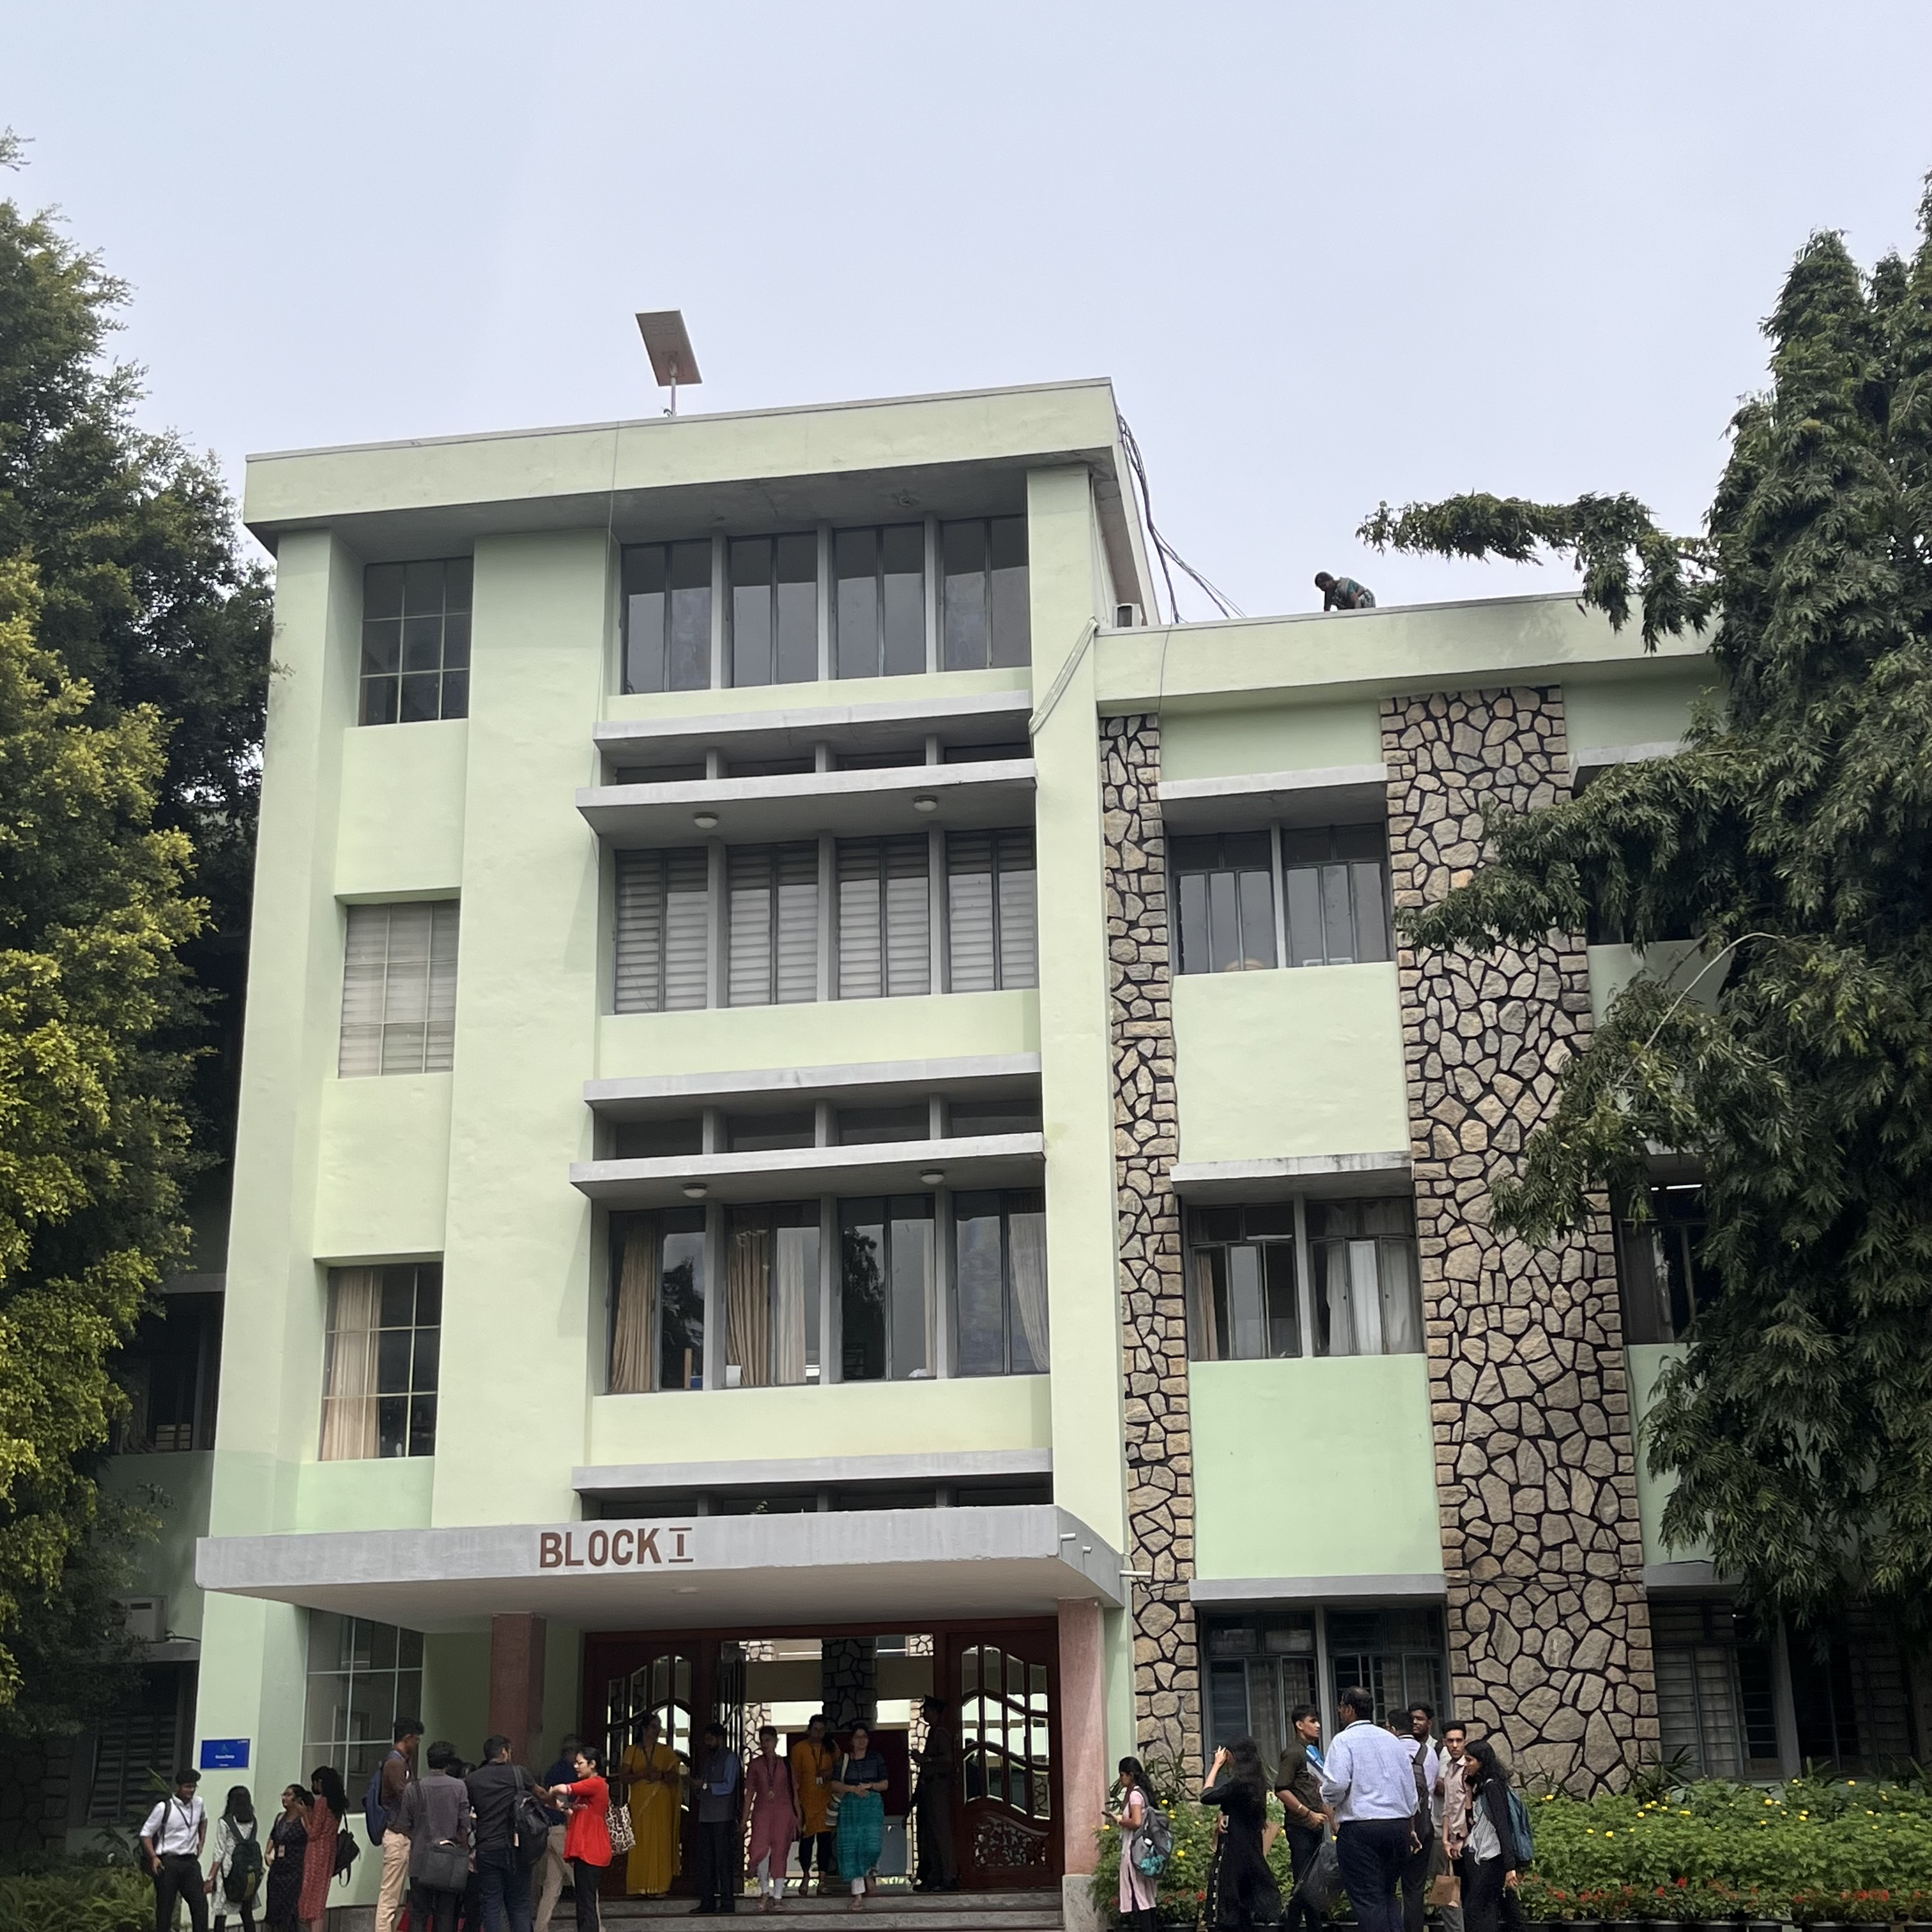Block 1: (209, 356, 1668, 1702)
